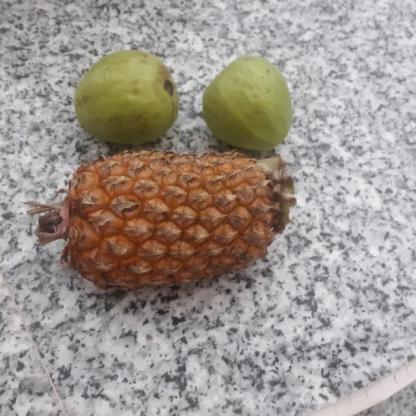guava: (76, 50, 182, 142), (203, 56, 296, 149)
pineapple: (40, 149, 299, 294)
